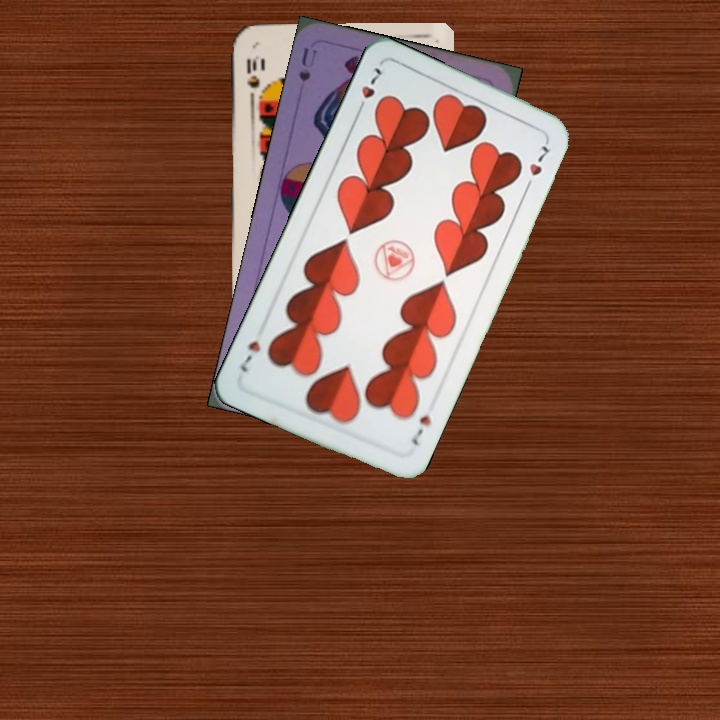H7: (353, 63, 384, 117), (406, 410, 434, 449)
S10: (243, 52, 262, 105)
SU: (294, 43, 319, 85)
